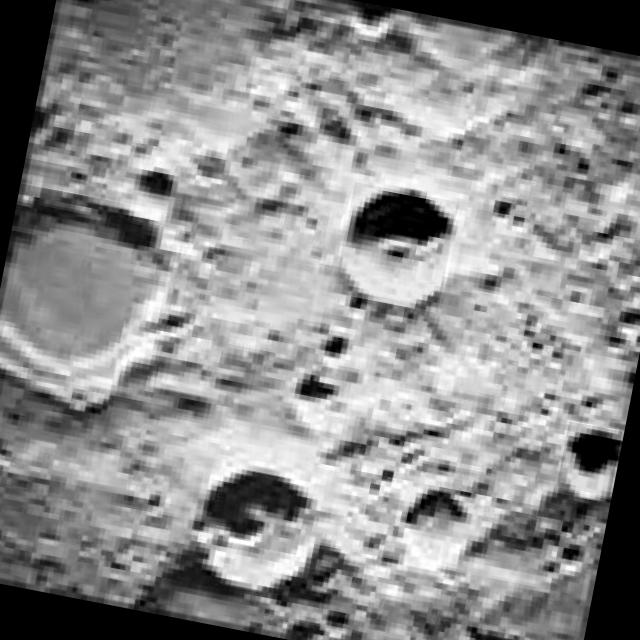crater: (0, 182, 187, 399), (334, 182, 459, 312), (198, 463, 314, 558), (557, 422, 623, 497)
